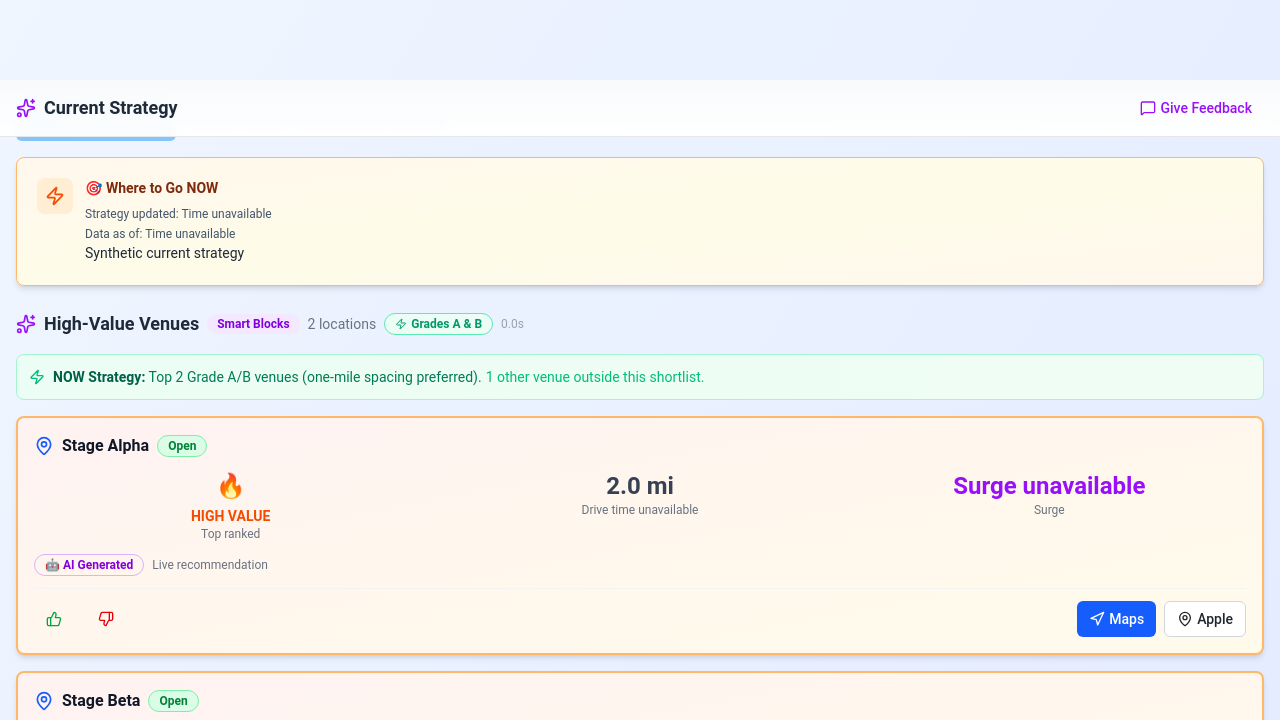
it: 409 reloads newer saved choices inside the open modal, retaining the comment and retrying the current visible IDs
Click the button named "Remove Stage Alpha from this strategy" at (106, 619), box [86,601,126,637]
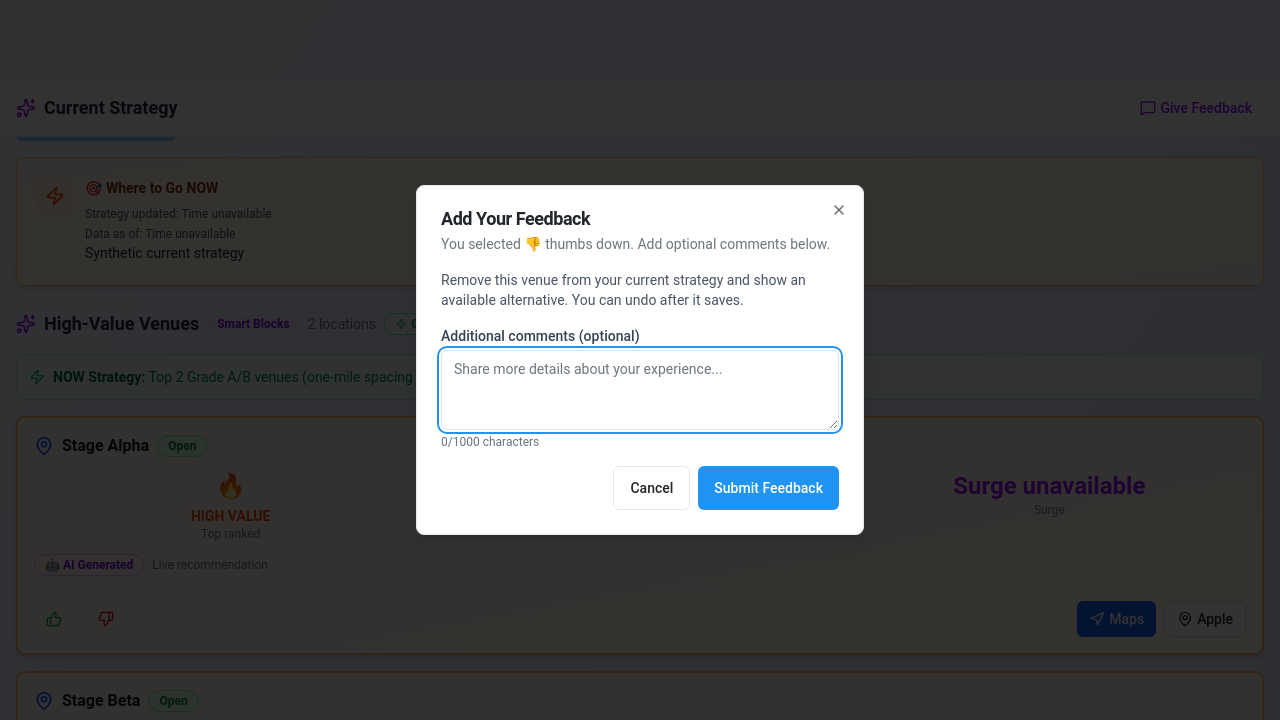
Type "Keep this conflict draft" into the text box labelled "Additional comments (optional)" at (640, 390), box [441,350,839,430]
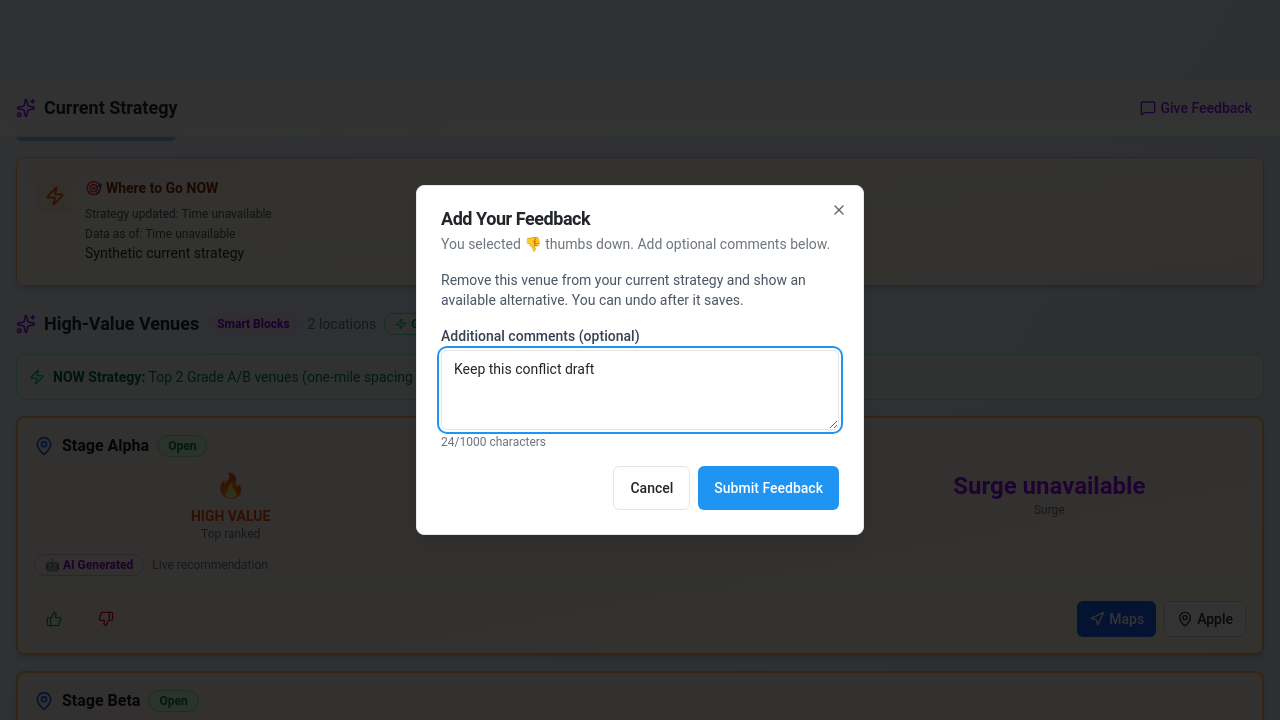
Click the button with test id "button-submit-feedback" at (769, 488), box [698,466,839,510]
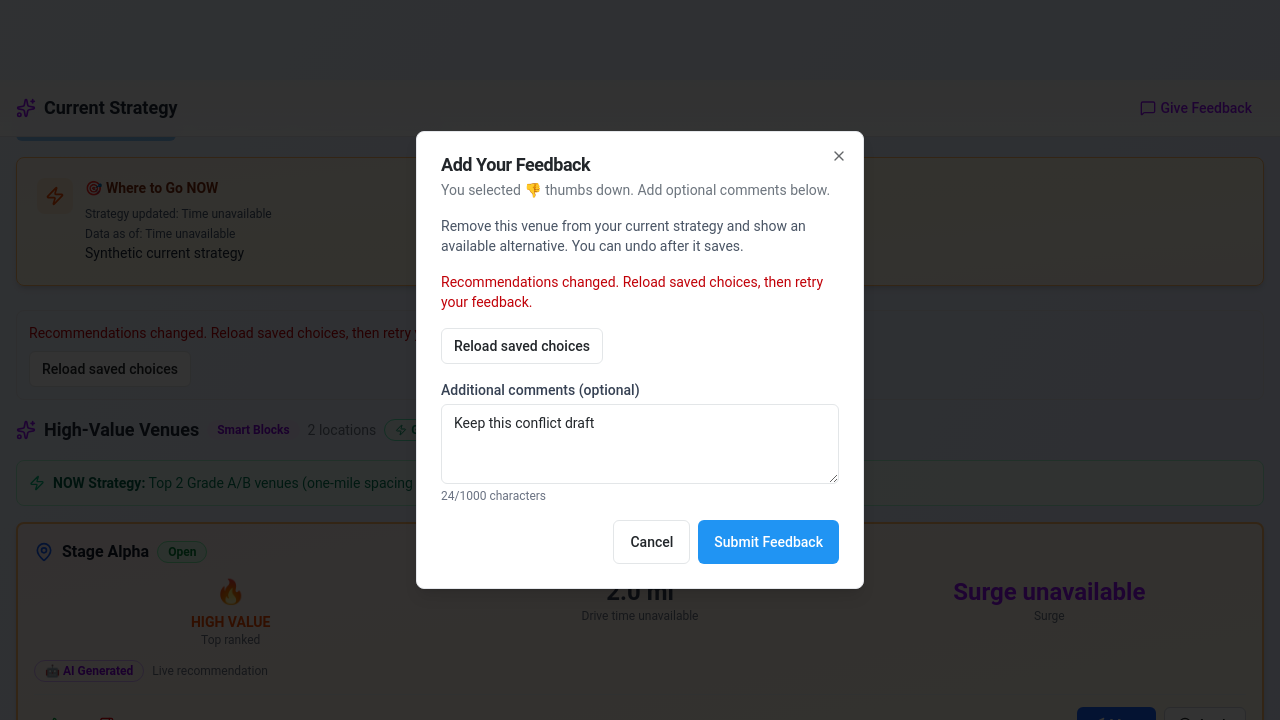
Result: the message shows "Reload saved choices" at [441,274,823,310]
Click the button "Reload saved choices" at (522, 346), box [441,328,603,364]
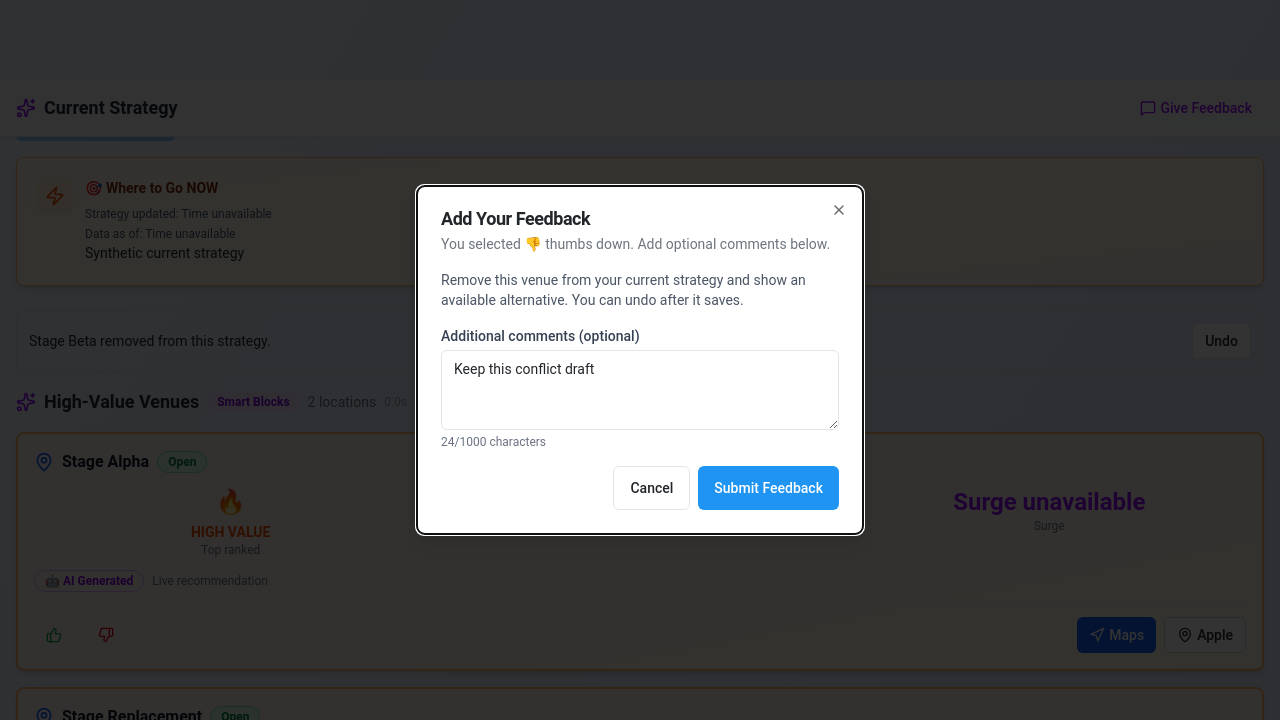
Result: the button with test id "button-submit-feedback" is enabled
Click the button with test id "button-submit-feedback" at (769, 488), box [698,466,839,510]
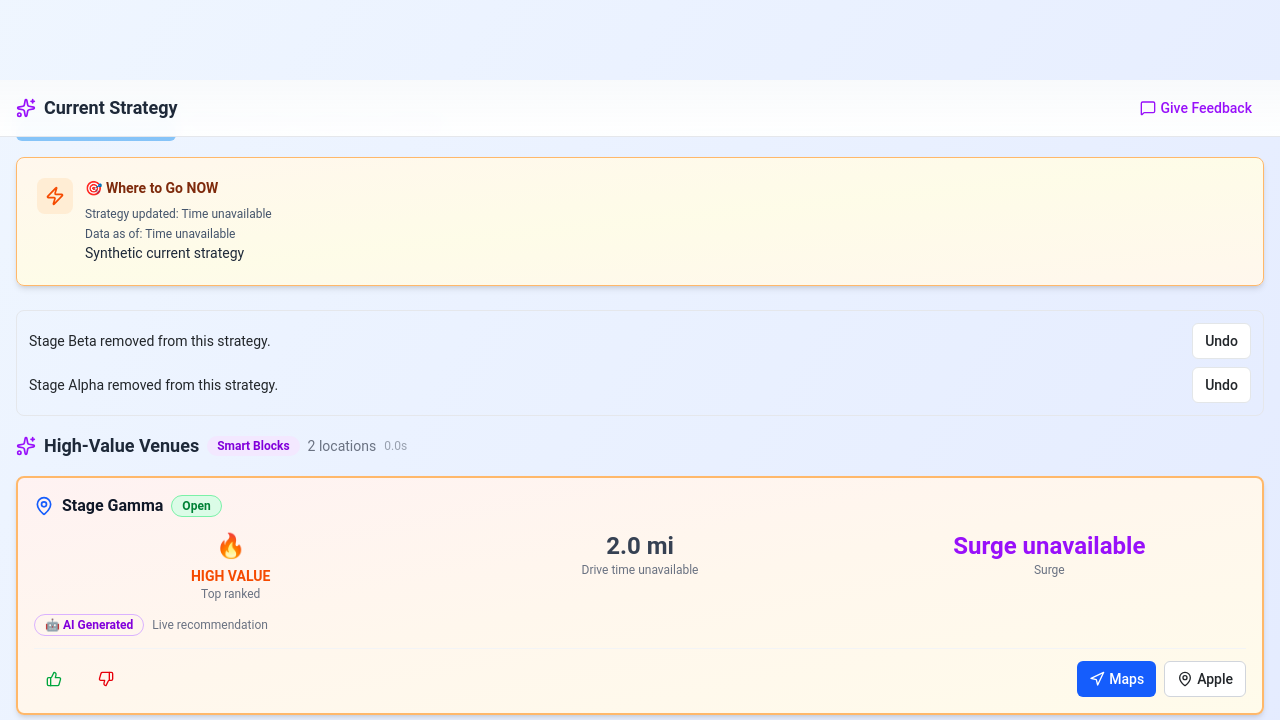
Result: the dialog is gone
